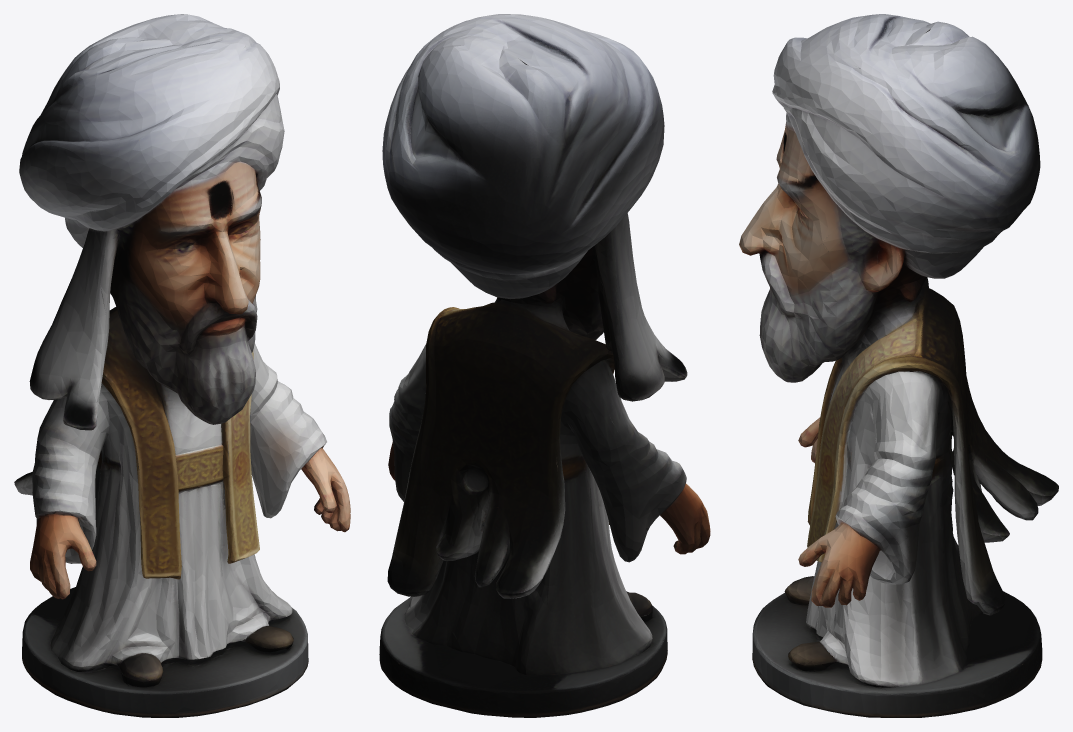
File: ibnezra_apose_trellis.glb
The picture shows the model from 3 angles, left to right: view 1: azimuth 30°, elevation 25°; view 2: azimuth 150°, elevation 25°; view 3: azimuth 270°, elevation 25°; orthographic projection.
Visible parts, largest first — view 1: world; view 2: world; view 3: world.
Boxes of the visible parts, x1,y1,x2,y2 form: world: [14, 14, 350, 717]; world: [379, 14, 710, 717]; world: [739, 14, 1058, 717].
Bounding box in the file's own units: 0.5179 × 1 × 0.4613.
1 material, 1 textured.
